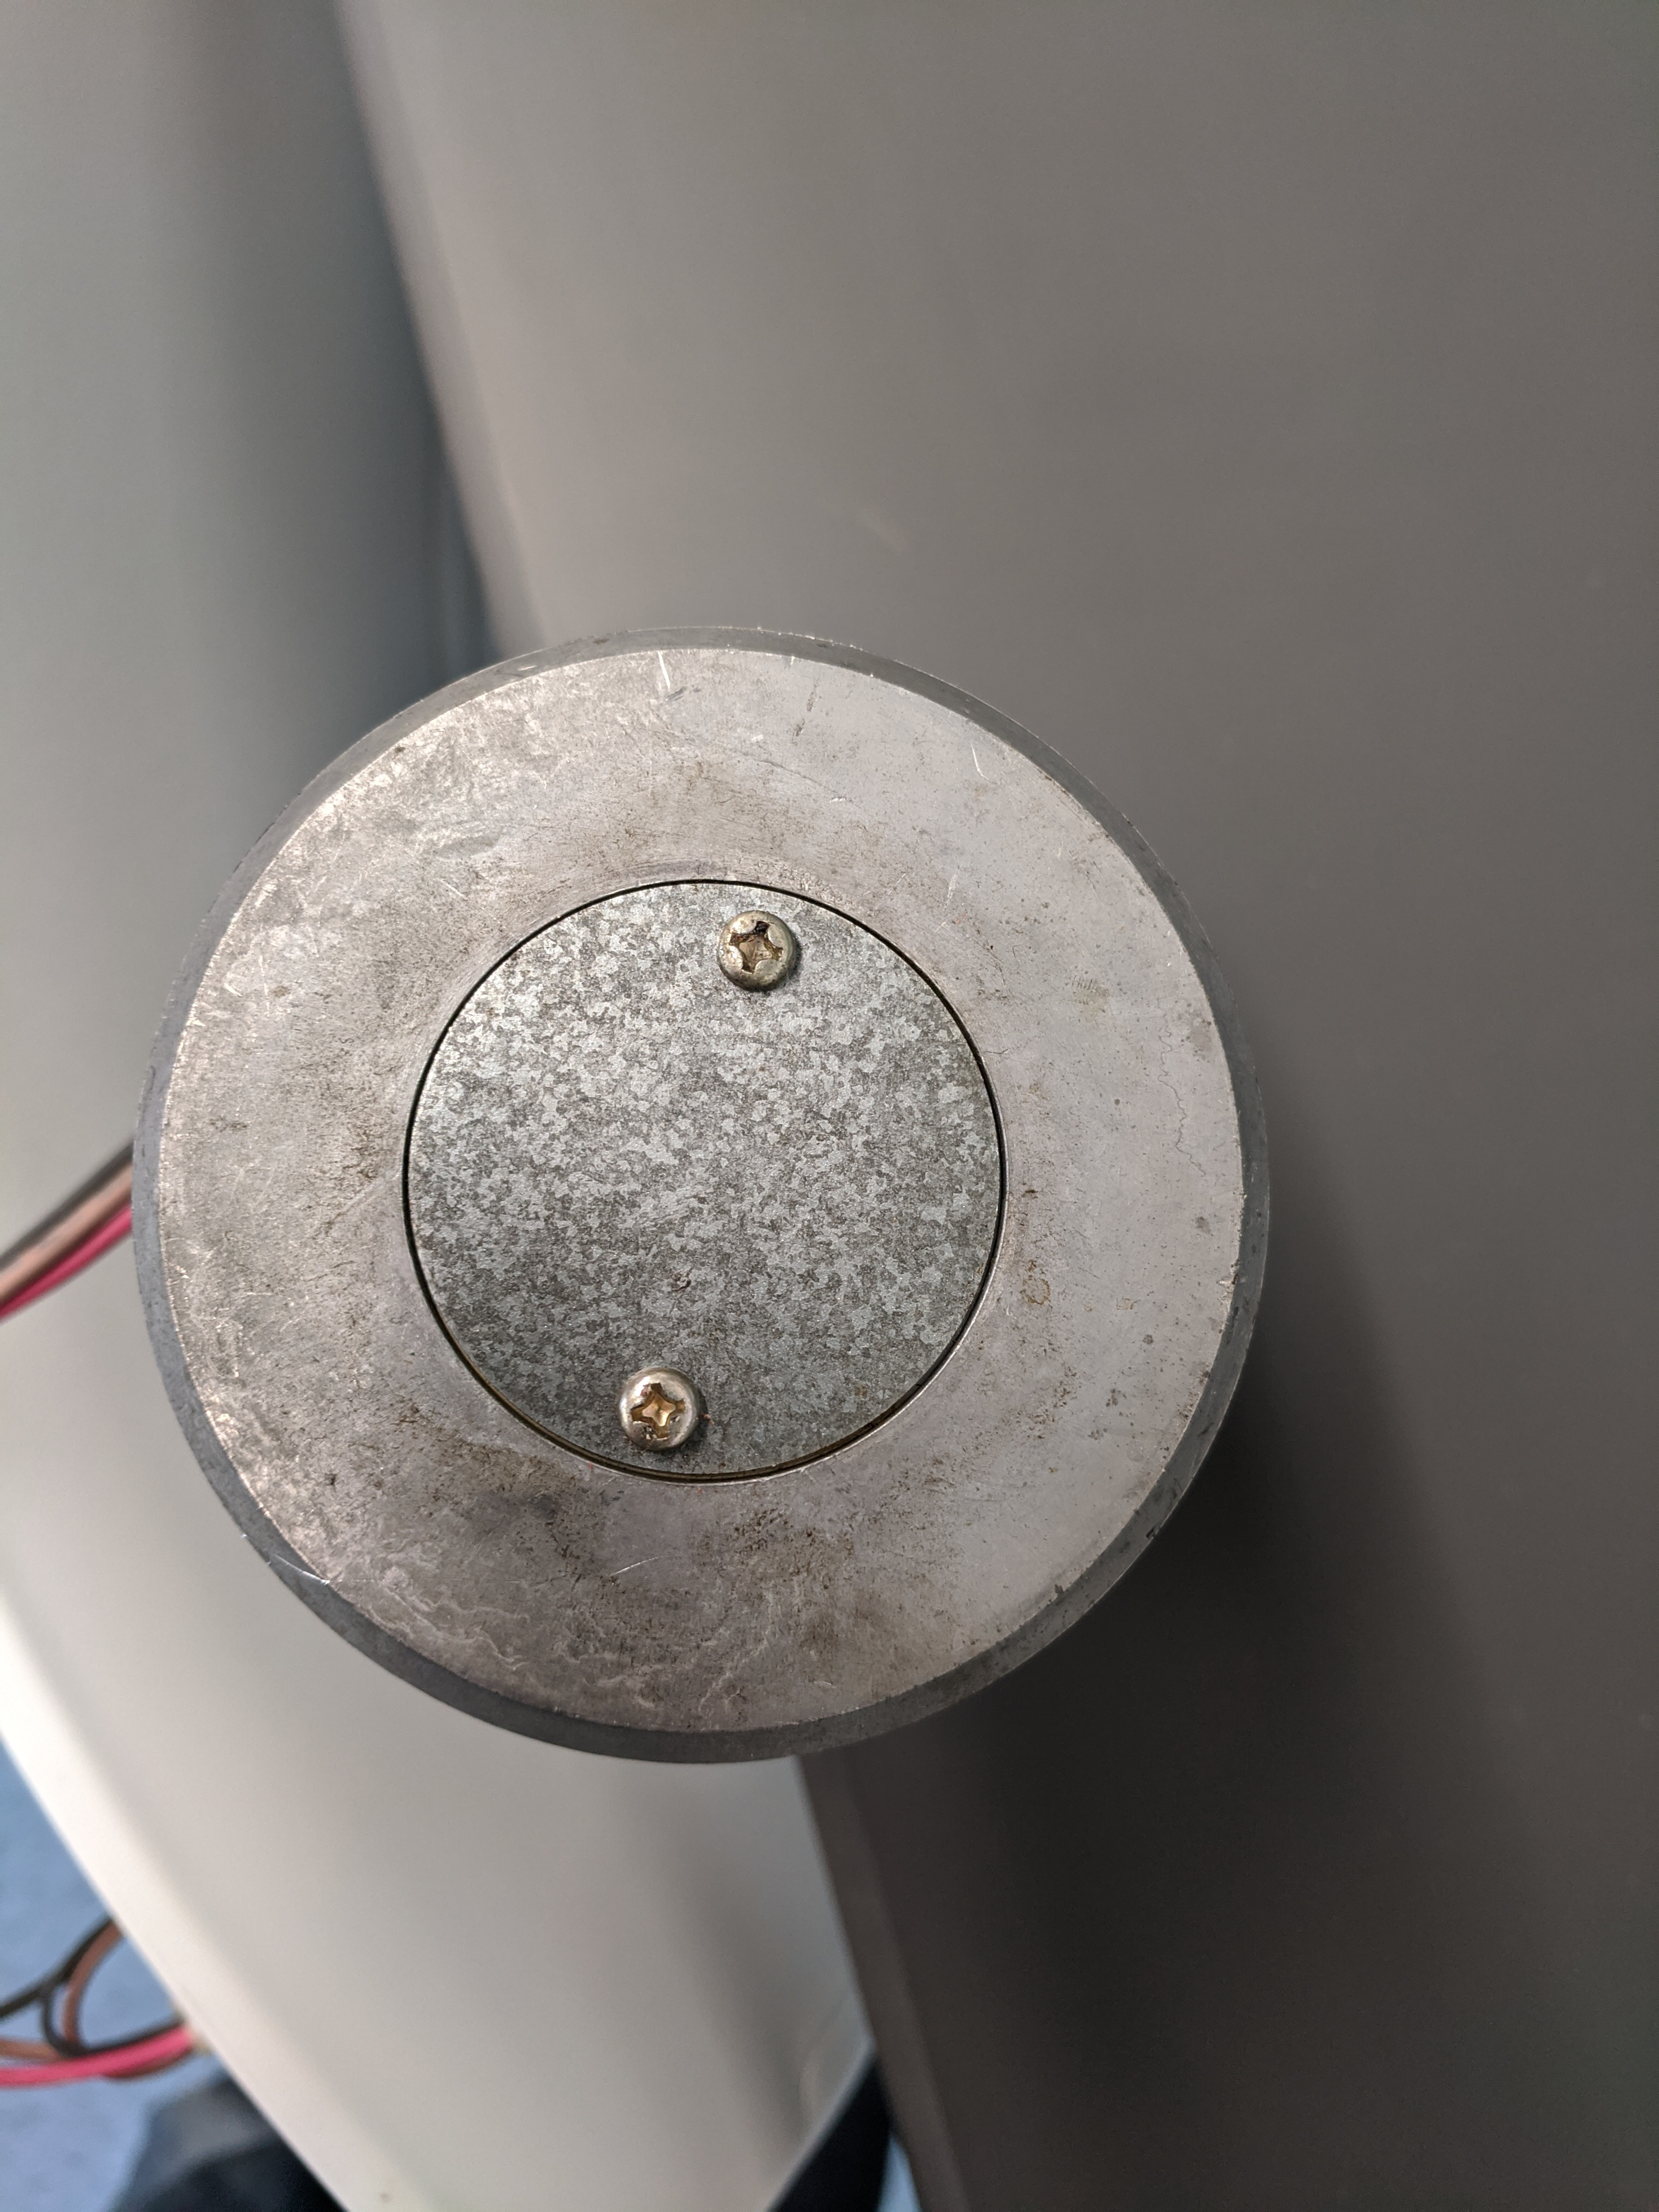cross_recessed_screw: (608, 1359, 706, 1454), (716, 894, 798, 988)
